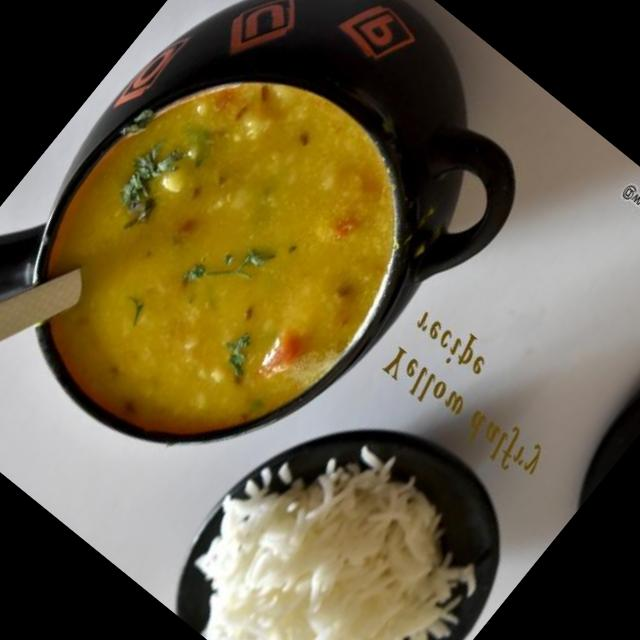dal: (0, 18, 455, 507)
rice: (152, 393, 512, 640)
